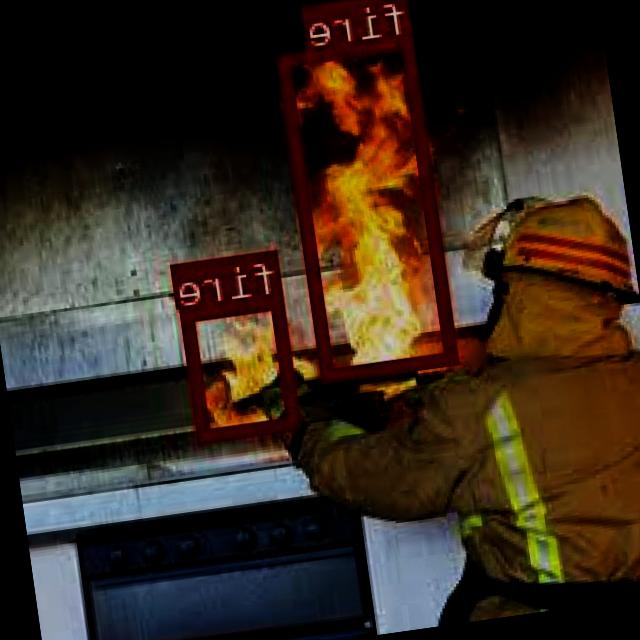fire: (278, 34, 460, 378), (184, 294, 303, 440)
